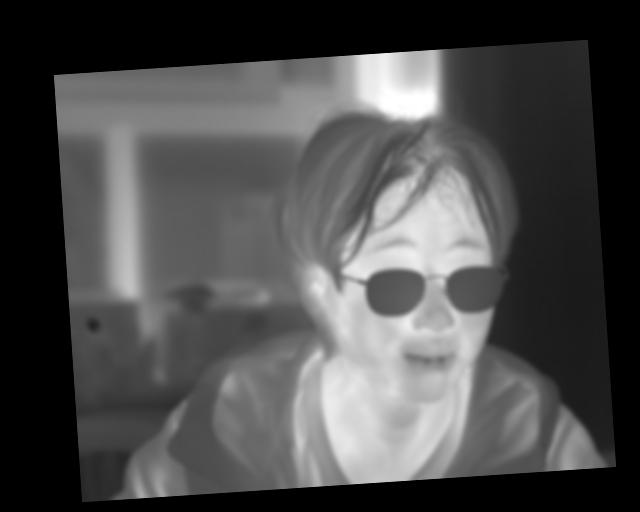face: (134, 201, 273, 354), (285, 303, 381, 411)
